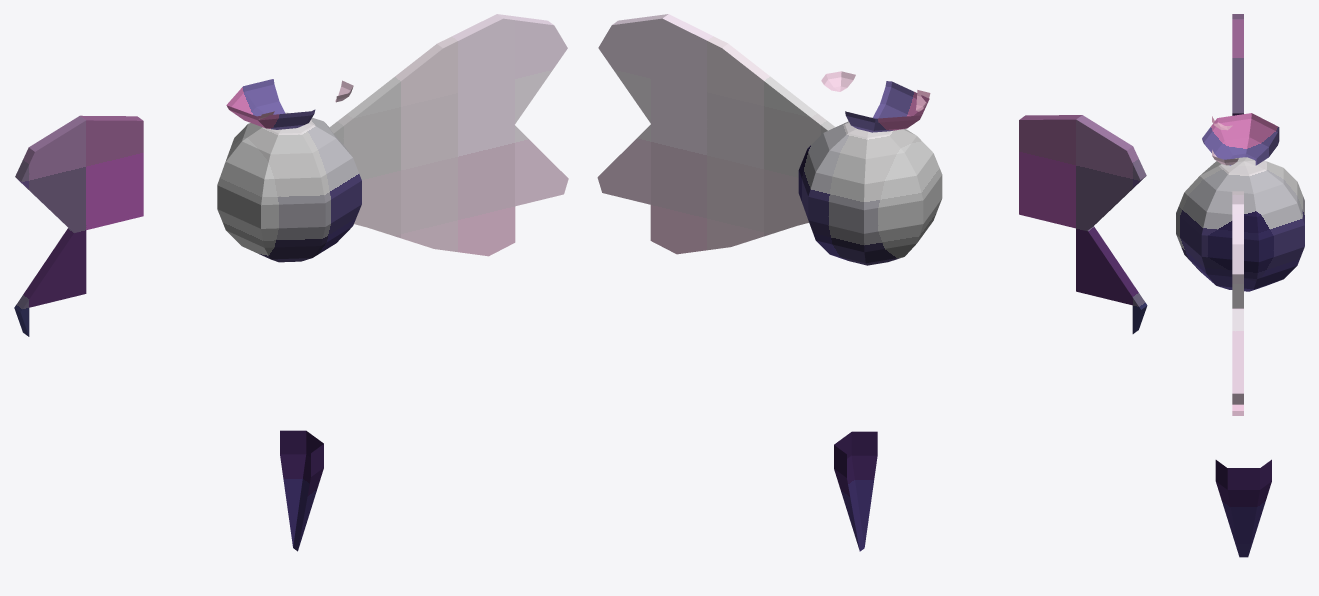
Rendered from demoiselle.obj.
3 views of the same model, side by side, from view 1: azimuth 30°, elevation 25°; view 2: azimuth 150°, elevation 25°; view 3: azimuth 270°, elevation 25° (orthographic). The views are drawn at different scales.
Bounding box in the file's own units: 93.69 × 91.07 × 20.95.
